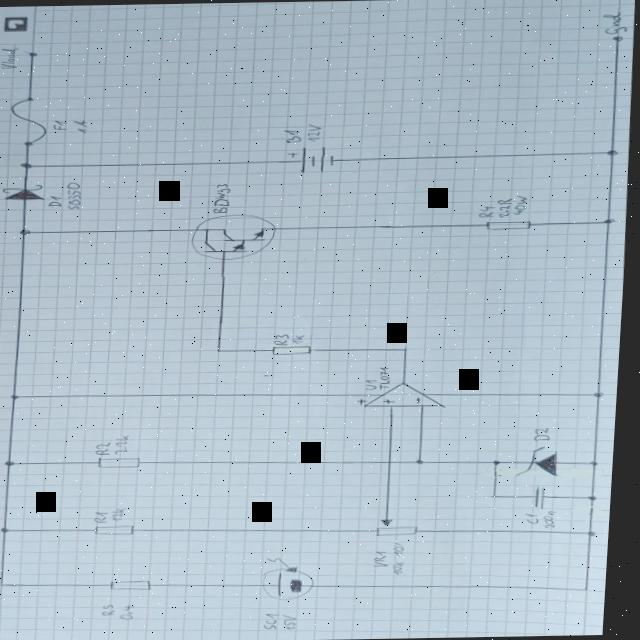capacitor: (535, 484, 552, 508)
crossover: (389, 458, 398, 464)
diode: (520, 444, 565, 478), (1, 186, 47, 200)
junction: (605, 148, 620, 156), (595, 391, 609, 398), (20, 228, 34, 235), (8, 459, 20, 466), (605, 217, 617, 224), (496, 458, 506, 466), (12, 393, 25, 399), (21, 162, 33, 168), (591, 530, 603, 536), (586, 586, 597, 592), (5, 526, 15, 532), (592, 494, 602, 500), (594, 460, 604, 466), (419, 459, 429, 464), (4, 582, 12, 588), (495, 493, 504, 498), (218, 348, 226, 352), (404, 346, 412, 350)
resistor: (379, 516, 426, 538), (115, 578, 158, 592), (100, 522, 141, 536), (271, 344, 318, 356), (101, 456, 146, 468), (487, 219, 533, 230)
source: (286, 143, 340, 174)
terminal: (608, 35, 624, 43), (26, 51, 39, 58)
text: (213, 184, 234, 214), (64, 182, 85, 210), (601, 11, 626, 33), (0, 46, 20, 68), (303, 122, 324, 142), (287, 612, 306, 632), (497, 196, 515, 217), (266, 612, 287, 630), (282, 128, 305, 144), (118, 434, 136, 454), (377, 548, 395, 568), (535, 426, 556, 442), (381, 366, 396, 388), (546, 509, 563, 528), (514, 194, 529, 214), (125, 604, 143, 620), (98, 441, 117, 455), (73, 118, 89, 134), (115, 506, 132, 521), (397, 540, 412, 556), (49, 194, 66, 208), (479, 205, 497, 218), (274, 333, 293, 345), (397, 560, 412, 575), (51, 118, 69, 130), (99, 510, 115, 523), (107, 603, 124, 615), (529, 512, 545, 524), (366, 378, 382, 390), (294, 332, 310, 343)
transistor: (190, 212, 281, 260)
